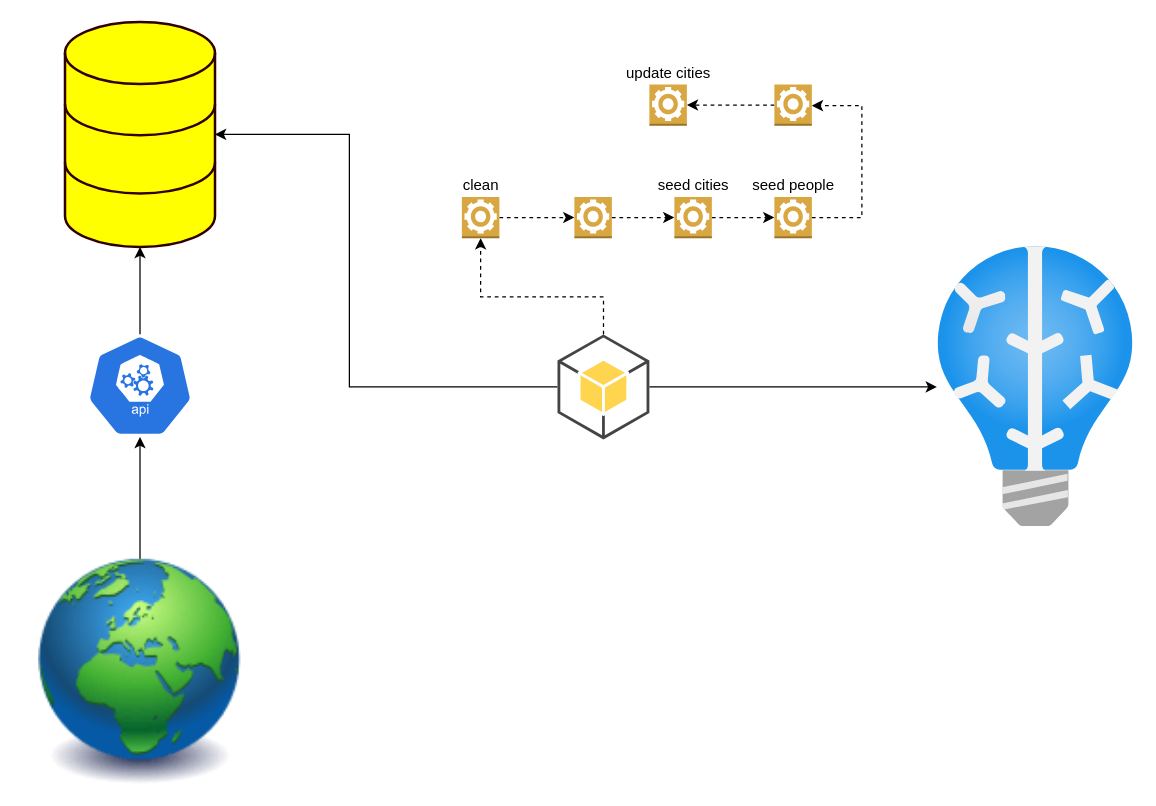
The diagram is 1156 pixels wide and 806 high, and some of its shapes have lost their labels. Each missing label, with the box of its shape:
seed events: (573, 196, 612, 238)
update people: (773, 83, 812, 126)
